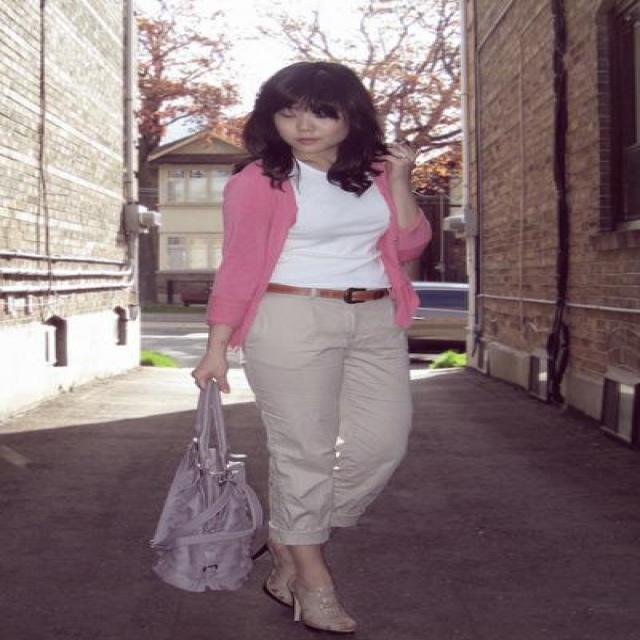bag: (150, 376, 248, 591)
jacket: (197, 160, 467, 319)
pants: (227, 293, 440, 544)
shirt: (270, 166, 389, 289)
shoe: (272, 586, 354, 626)
